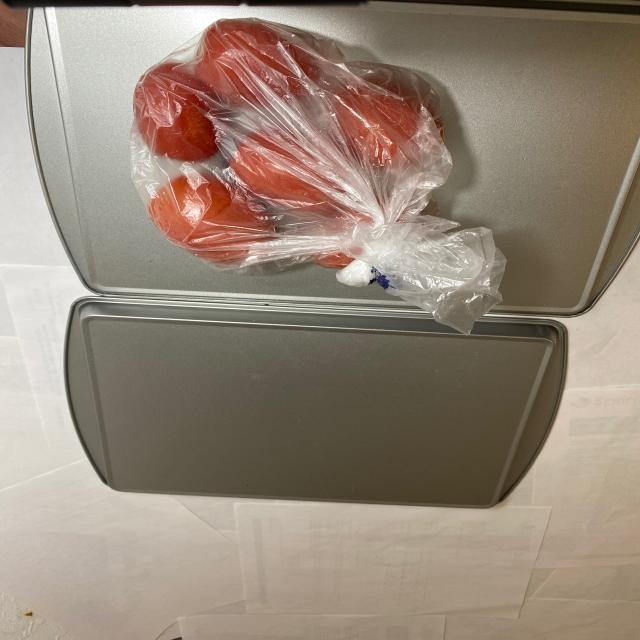tomato: (136, 19, 469, 292)
